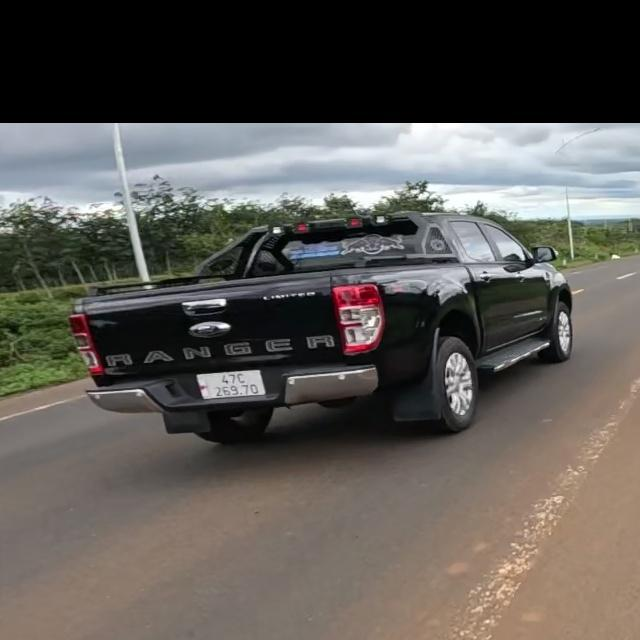car: (62, 209, 579, 448)
plate: (191, 366, 275, 406)
